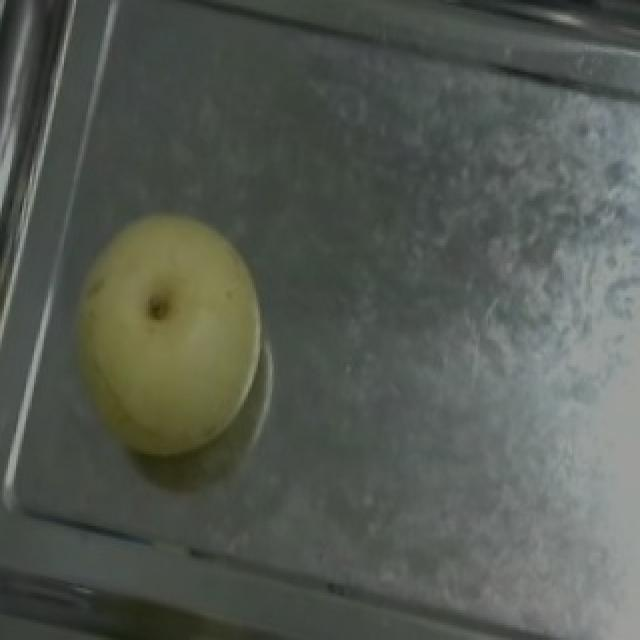Fruit: (40, 181, 298, 489)
